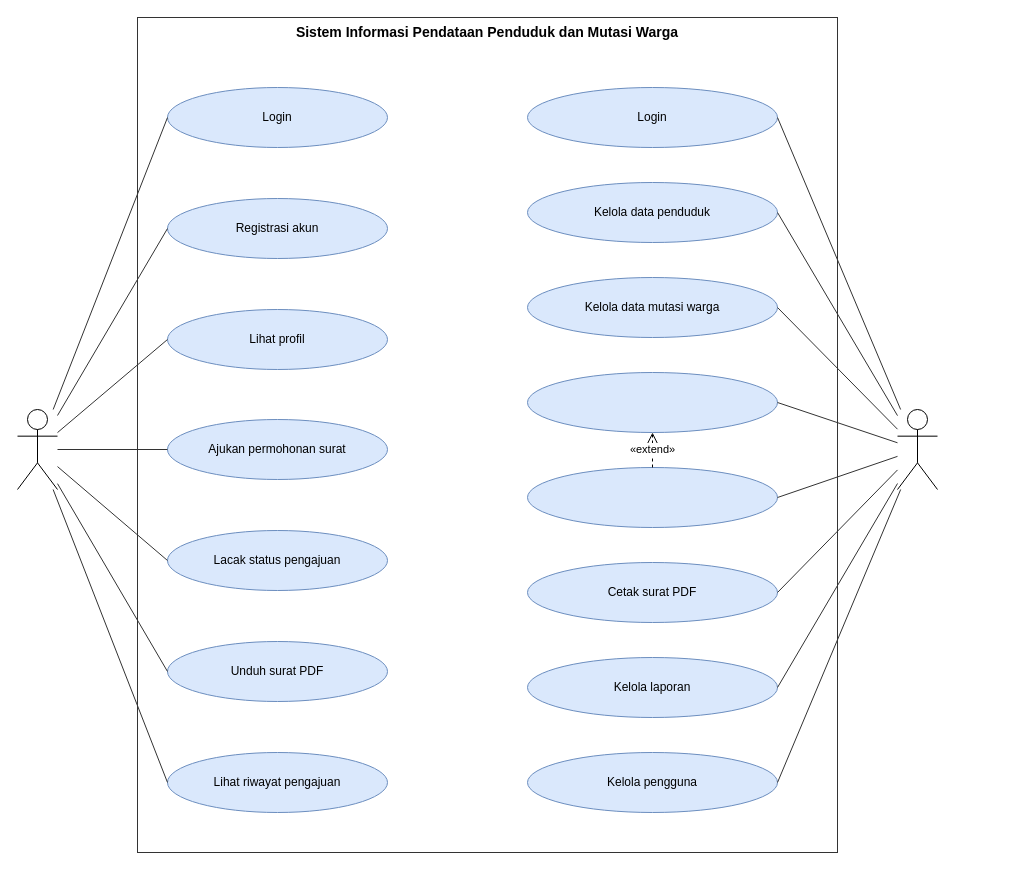
Some shapes in this 1010 by 870 pixel diagram are drawn without their labels. The box of each missing label's shape, as (x1, y1, x2, y2) in pixels:
Perangkat Desa (Admin): (896, 408, 938, 490)
Tanda tangan elektronik: (526, 466, 778, 528)
Verifikasi pengajuan surat: (526, 372, 778, 432)
Warga: (16, 408, 58, 490)
